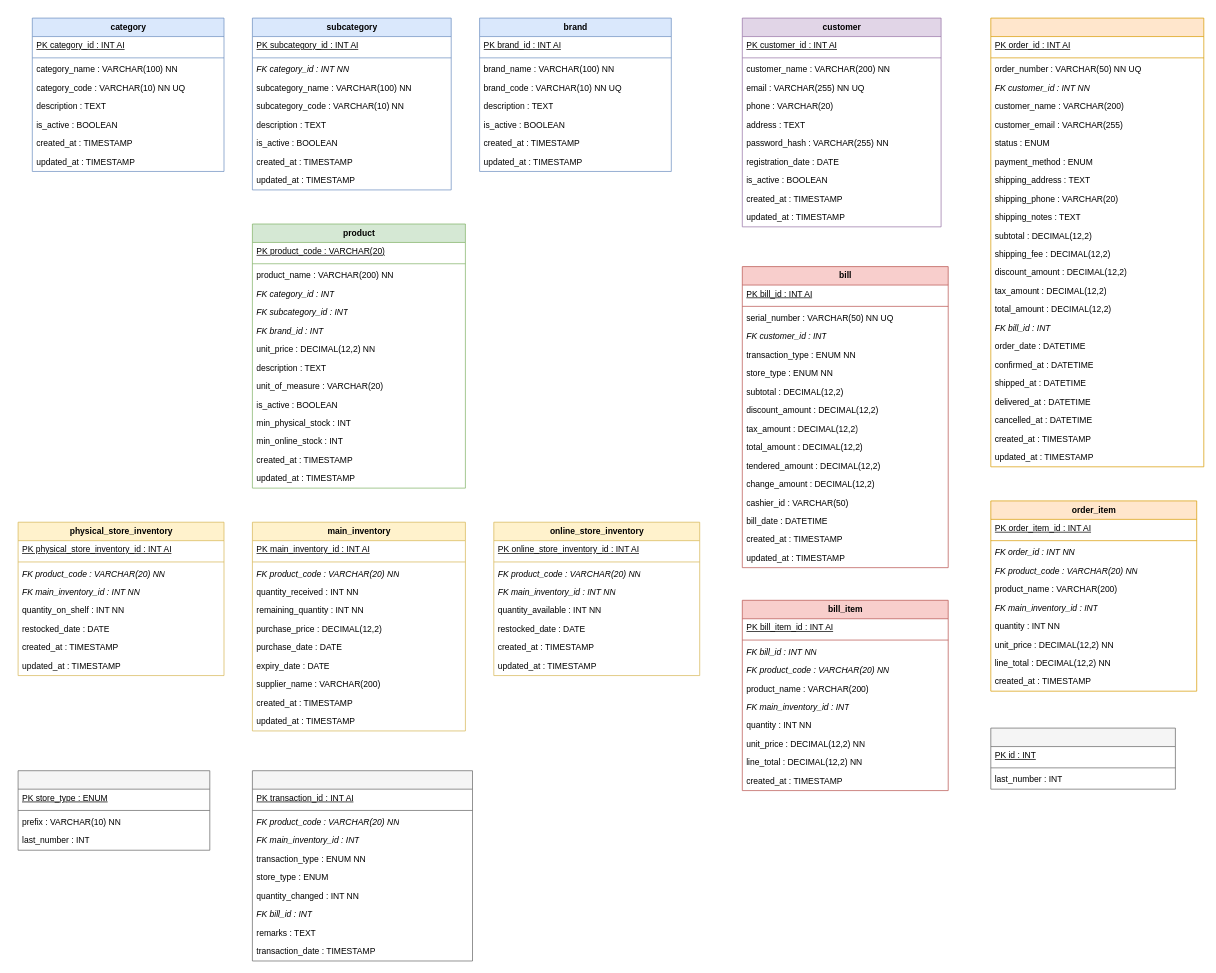
The diagram is 1216 pixels wide and 973 high, and some of its shapes have lost their labels. The shapes that lost their labels are listed below. From the top down, each one's box as (x1, y1, x2, y2) in pixels, then its label:
(990, 17, 1204, 467): orders
(990, 727, 1175, 789): order_sequence
(17, 770, 210, 850): bill_sequence
(252, 770, 473, 961): inventory_transaction
